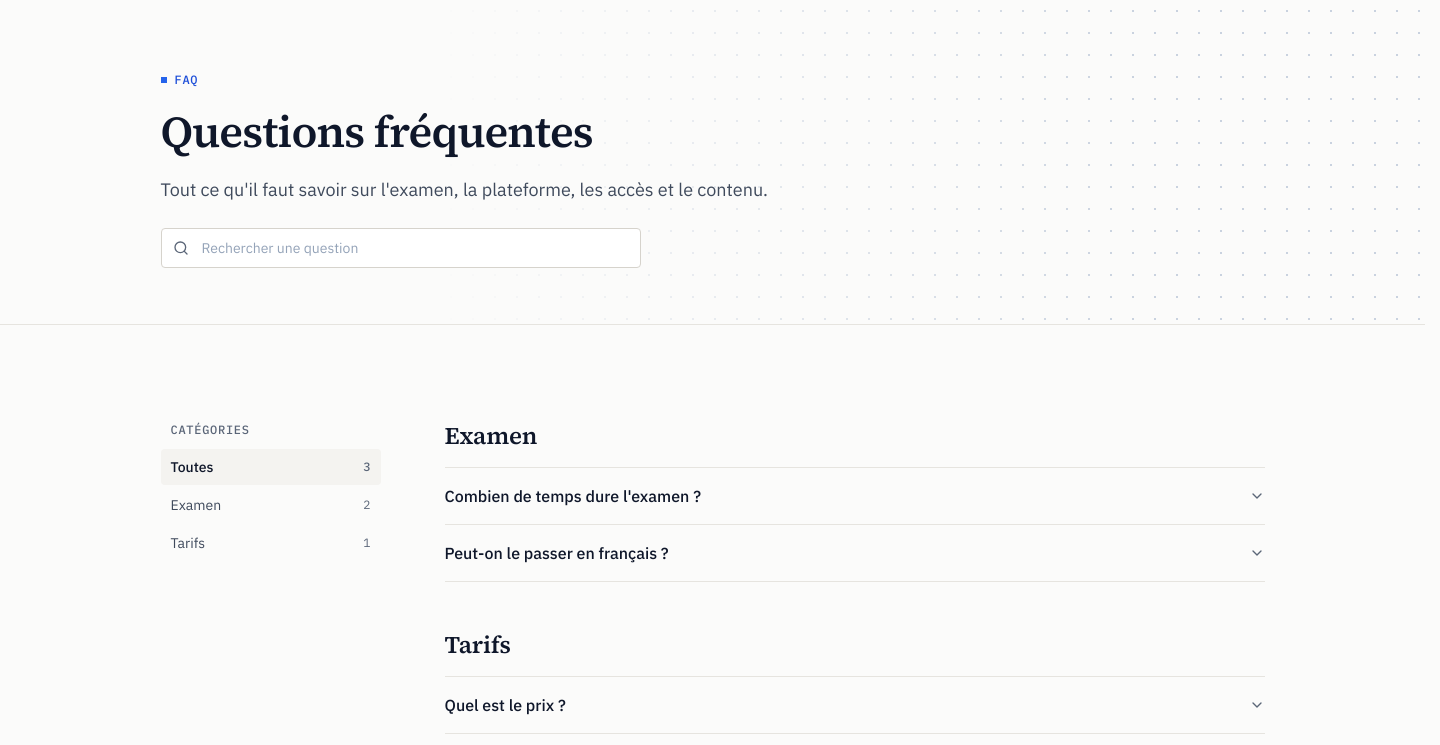
FaqPageClient › une recherche qui change rouvre la première réponse de la nouvelle liste
This screenshot has width=1440, height=745.
Type "e" into the field labelled "Rechercher une question" at (400, 248), box 160,228 -> 640,268
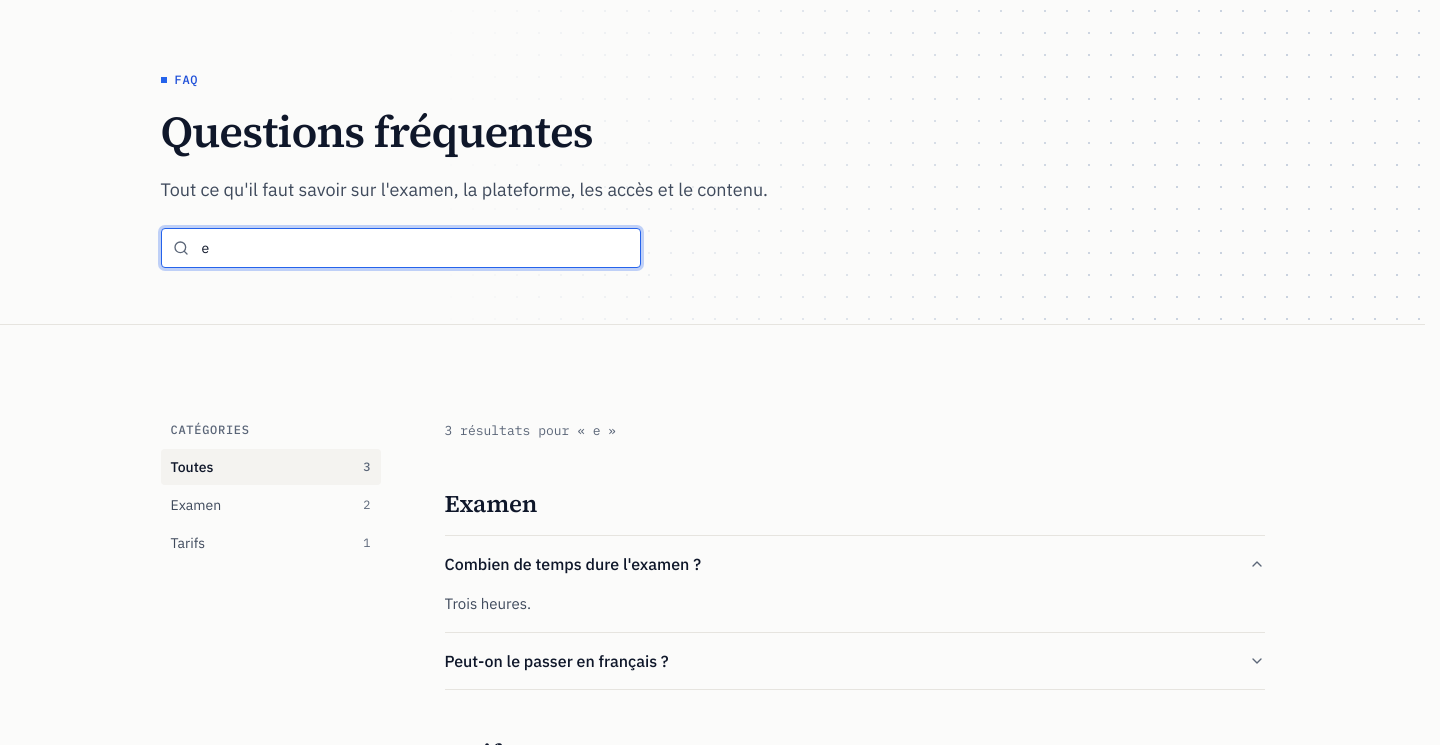
Now the text "3 résultats pour « e »" is shown, box 444,422 -> 616,439
Click the button "Combien de temps dure l'examen ?" at (573, 564), box 444,536 -> 1264,592
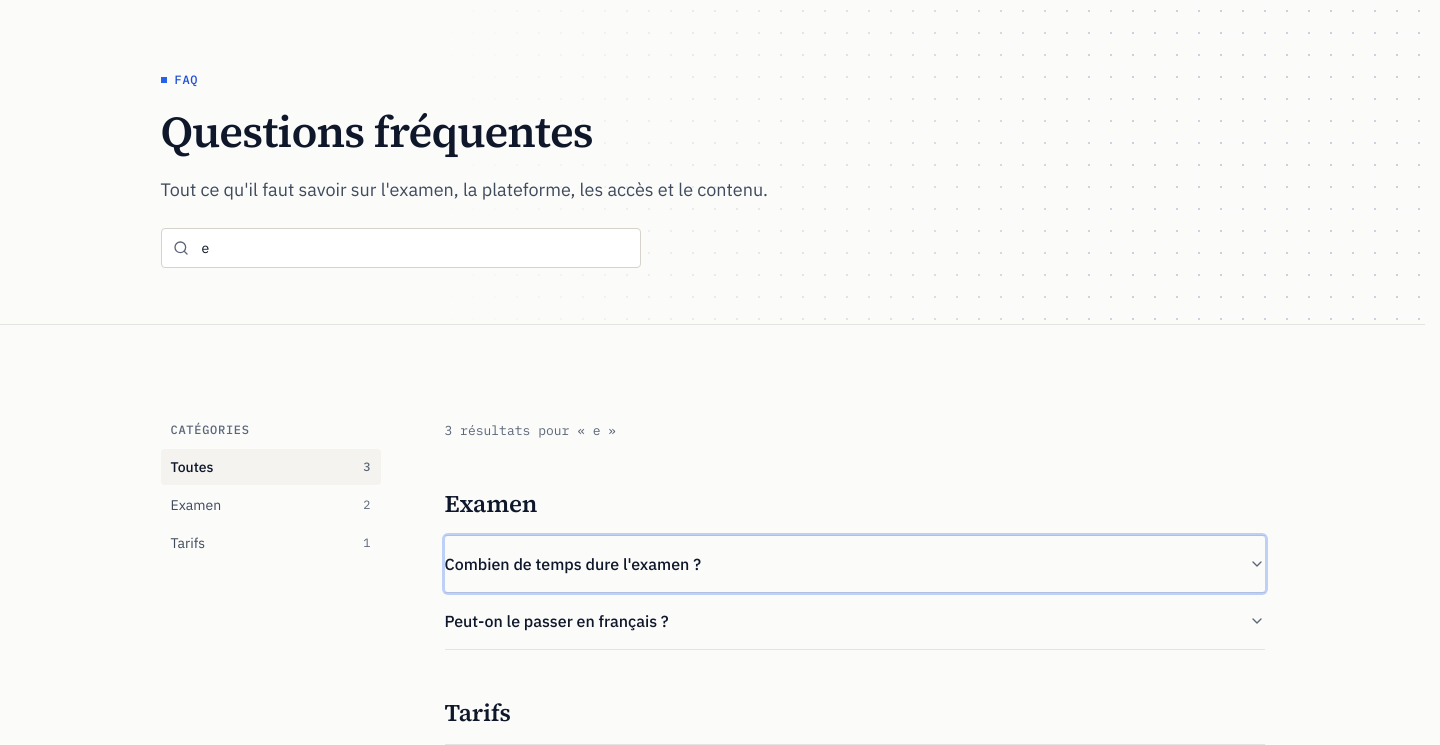
Now the button "Combien de temps dure l'examen ?" is collapsed, box 444,536 -> 1264,592
Type "x" into the field named "Rechercher une question" at (400, 248), box 160,228 -> 640,268
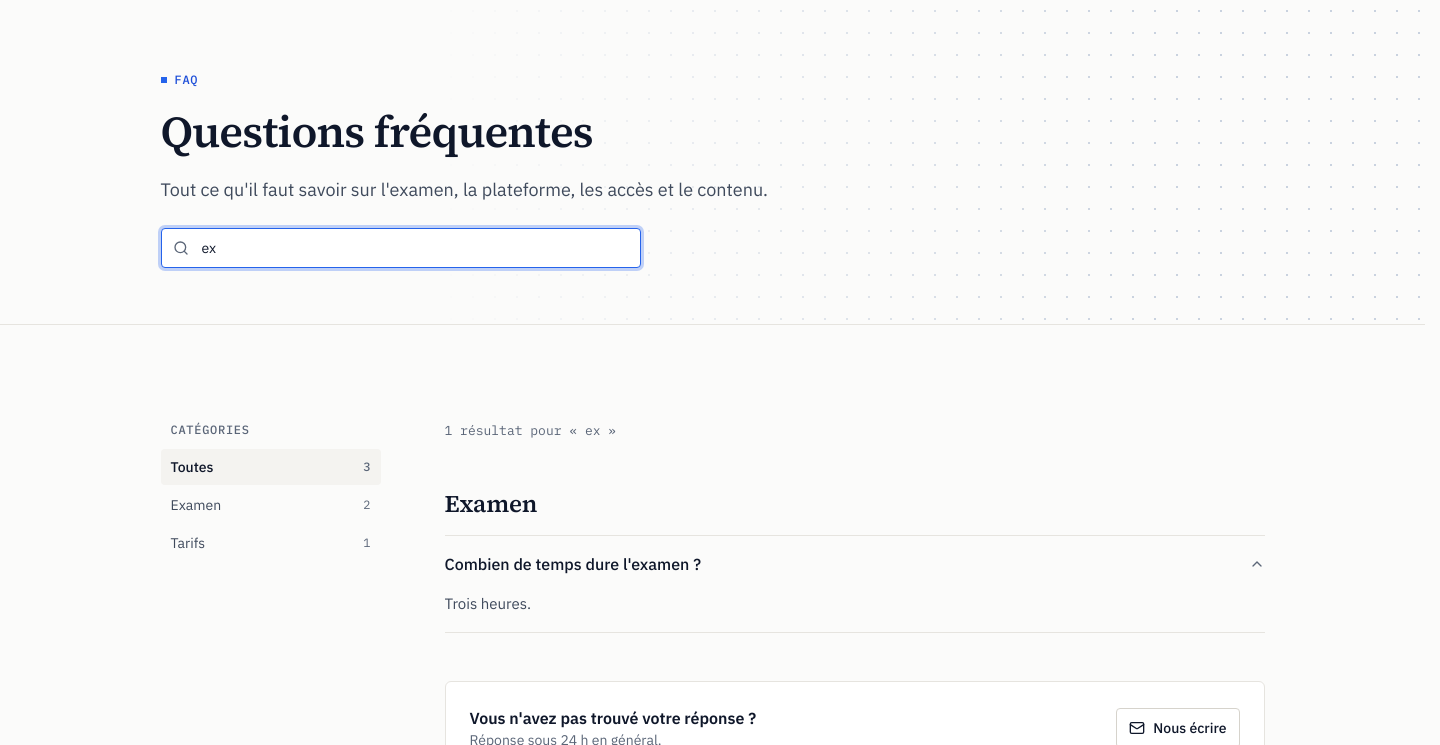
Now the text "1 résultat pour « ex »" is shown, box 444,422 -> 616,439
